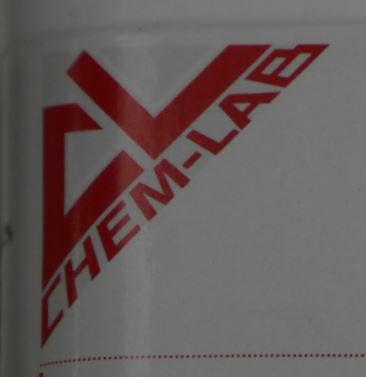ChemLab: (36, 40, 331, 349)
